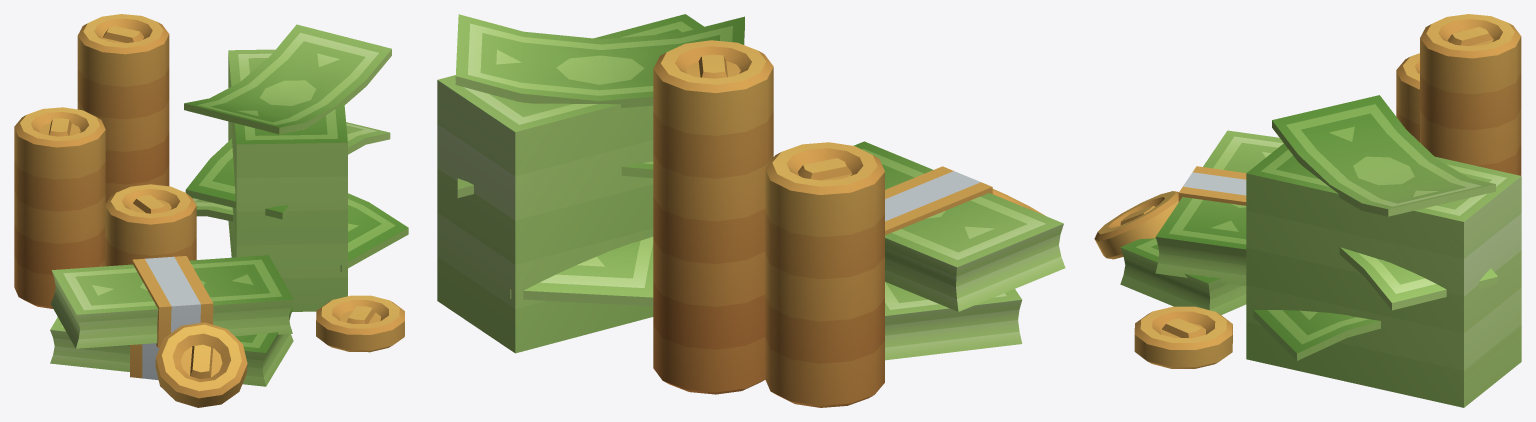
The model's file is money_pile_medium.glb.
3 renders of one model, left to right at view 1: azimuth 30°, elevation 25°; view 2: azimuth 150°, elevation 25°; view 3: azimuth 270°, elevation 25°, orthographic. The views are drawn at different scales.
Parts seen in each view (by area): view 1: Money_Pile_Medium; view 2: Money_Pile_Medium; view 3: Money_Pile_Medium.
Part boxes in pixels (<box>): Money_Pile_Medium: <box>14,14,408,407</box>; Money_Pile_Medium: <box>437,14,1065,407</box>; Money_Pile_Medium: <box>1094,14,1521,407</box>.
Bounding box in the file's own units: 1.21 × 0.71 × 1.04.
1 material, 1 textured.
